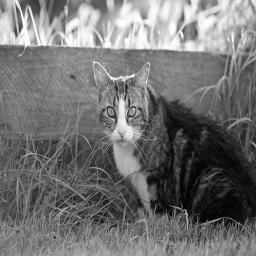catnose: (117, 128, 127, 140)
